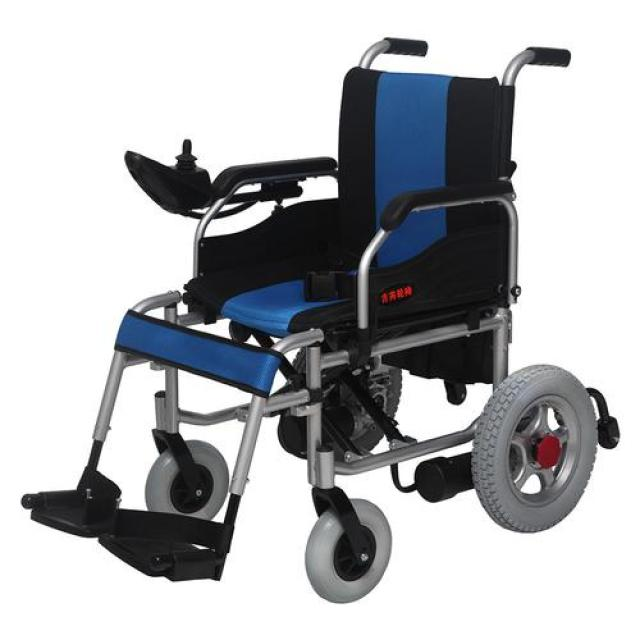wheelchairs: (17, 25, 632, 620)
